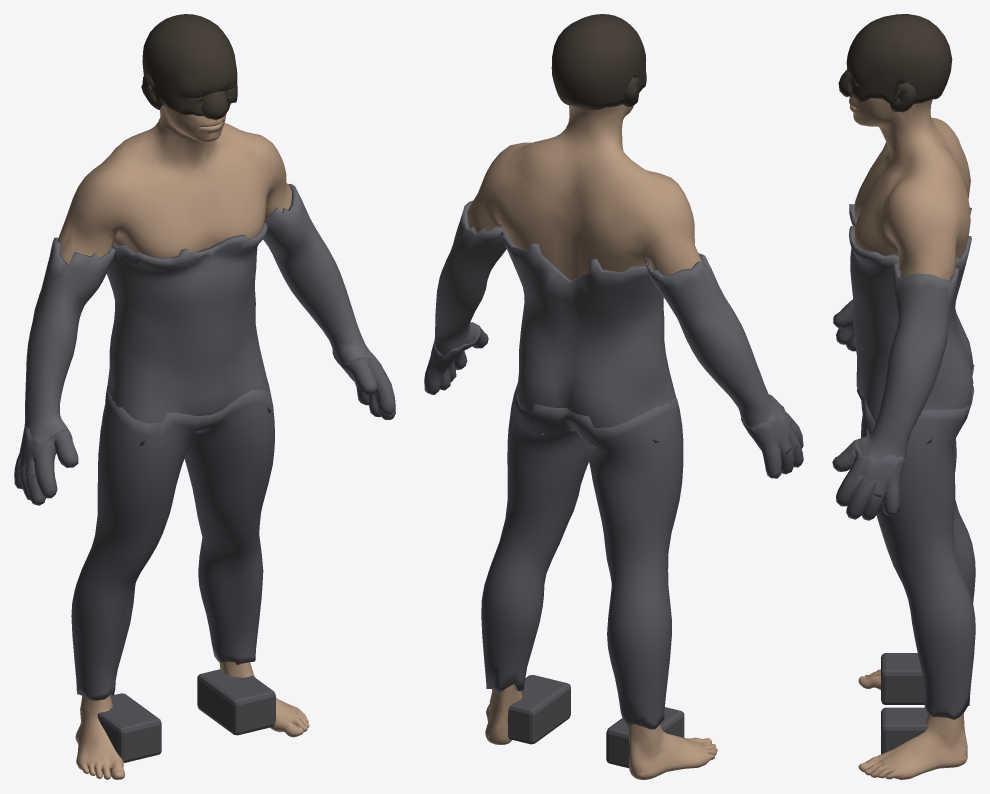
File: variant_male_deep.glb
The picture shows the model from 3 angles, left to right: view 1: azimuth 30°, elevation 25°; view 2: azimuth 150°, elevation 25°; view 3: azimuth 270°, elevation 25°; orthographic projection.
Parts seen in each view (by area): view 1: PeriHuman; view 2: PeriHuman; view 3: PeriHuman.
Boxes of the visible parts, x1=… form: PeriHuman: x1=14, y1=14, x2=395, y2=779; PeriHuman: x1=424, y1=14, x2=803, y2=779; PeriHuman: x1=832, y1=14, x2=975, y2=779.
Size of the model in its own units: 0.9576 by 1.82 by 0.3317.
